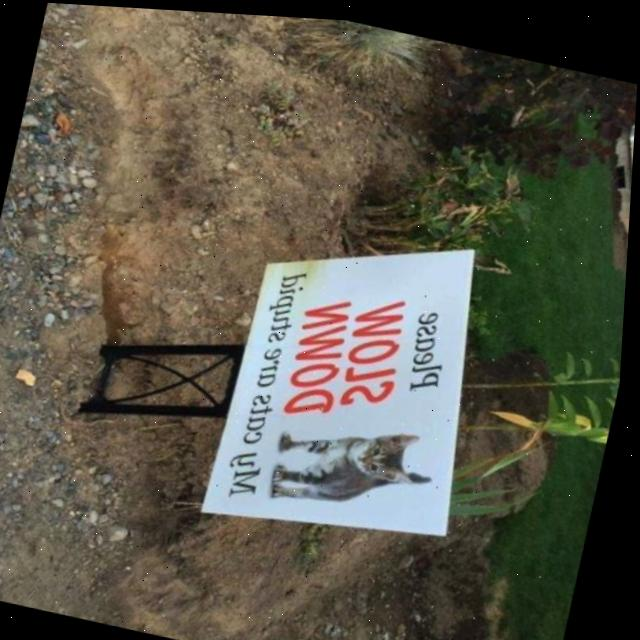Cats: (248, 383, 469, 550)
